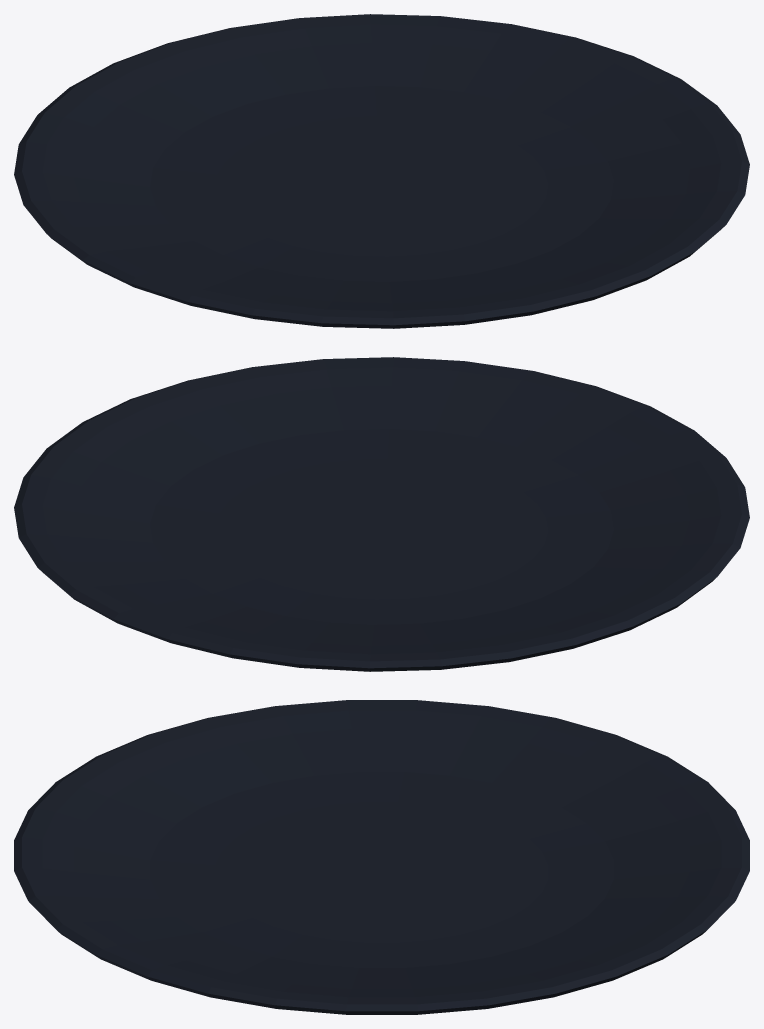
File: Bandeja-sola.fbx
The picture shows the model from 3 angles, top to bottom: view 1: azimuth 30°, elevation 25°; view 2: azimuth 150°, elevation 25°; view 3: azimuth 270°, elevation 25°; orthographic projection.
Visible parts, largest first — view 1: Bandeja; view 2: Bandeja; view 3: Bandeja.
Part boxes in pixels (bbox=[...]): Bandeja: bbox=[14, 14, 749, 328]; Bandeja: bbox=[14, 357, 749, 671]; Bandeja: bbox=[14, 700, 749, 1014].
Size of the model in its own units: 629 by 33.03 by 629.
